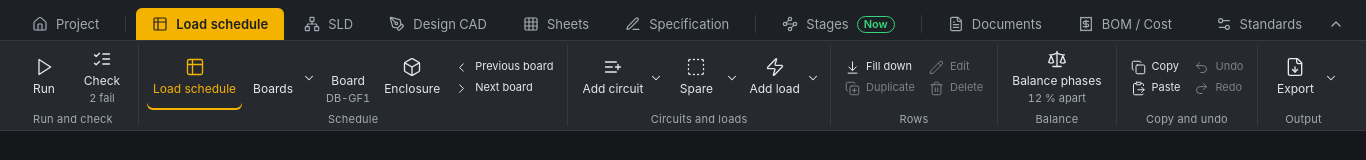
Test: the Load schedule tab › checks: the count beside it, what a press does, and a title that says what is there
Later steps or results of the test are not shown.
Step 1. Click the button "Check 2 fail" → (102, 78), box x1=74 y1=45 x2=130 y2=110
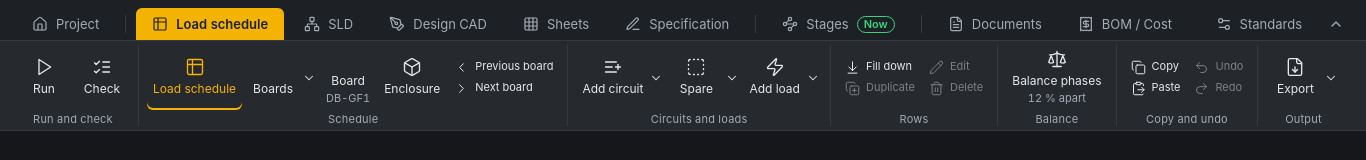
Expected: the text "2 fail" is gone
